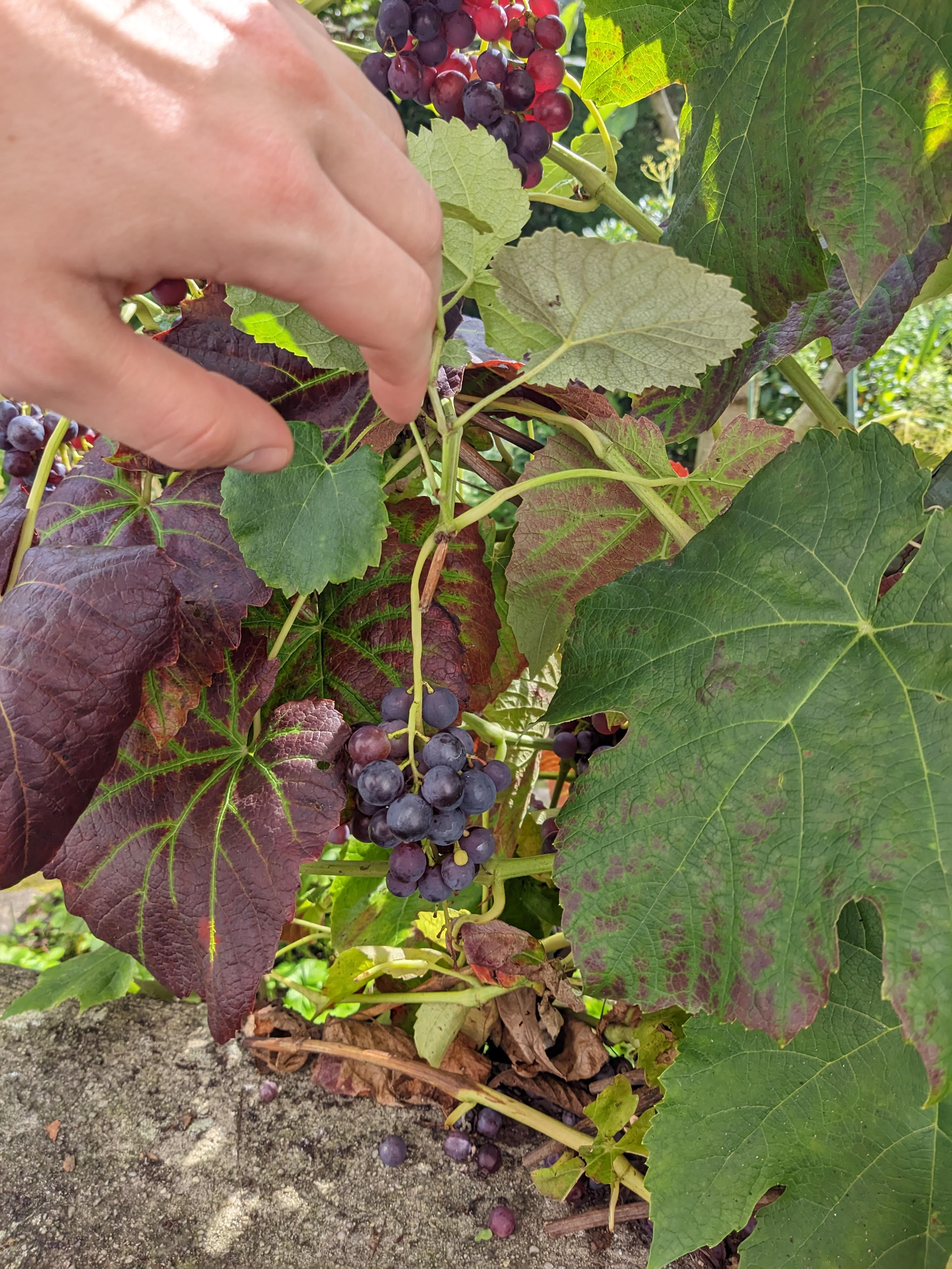Grape Ripe: (361, 0, 572, 187), (349, 686, 511, 901)
